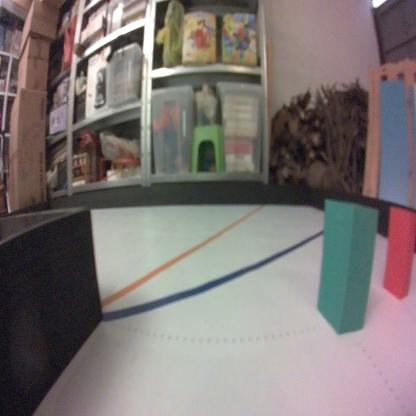green: (313, 195, 378, 339)
red: (381, 204, 415, 308)
